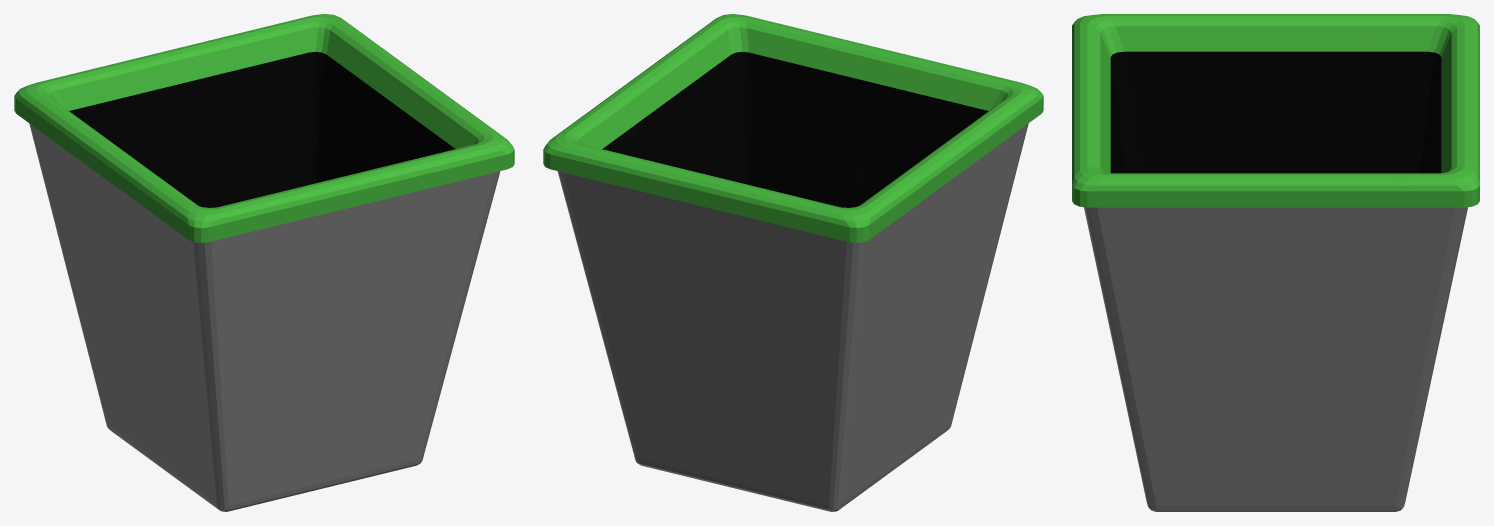
The model's file is BoteV3.fbx.
3 views of the same model, side by side, from view 1: azimuth 30°, elevation 25°; view 2: azimuth 150°, elevation 25°; view 3: azimuth 270°, elevation 25° (orthographic). The views are drawn at different scales.
Visible parts, largest first — view 1: Cubo; view 2: Cubo; view 3: Cubo.
Boxes of the visible parts, bbox=[...] form: Cubo: bbox=[14, 14, 514, 511]; Cubo: bbox=[543, 14, 1043, 511]; Cubo: bbox=[1072, 14, 1479, 511].
Size of the model in its own units: 0.7087 by 0.7 by 0.7087.
1 material, 1 textured.
